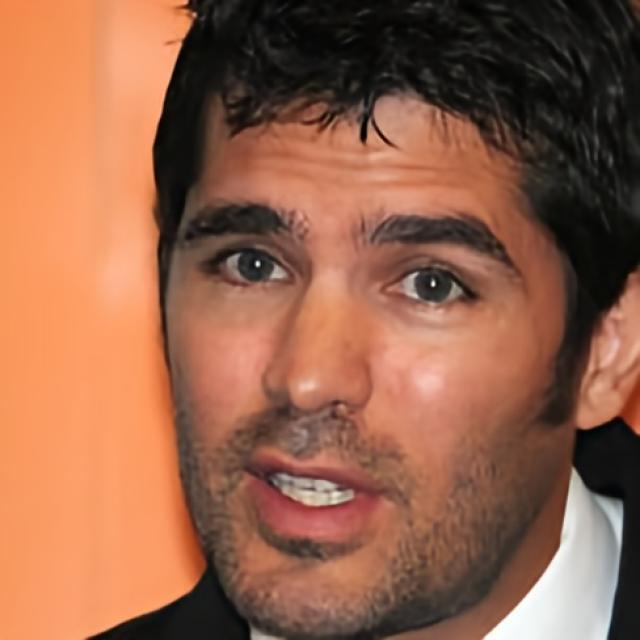surprise: (163, 63, 575, 640)
